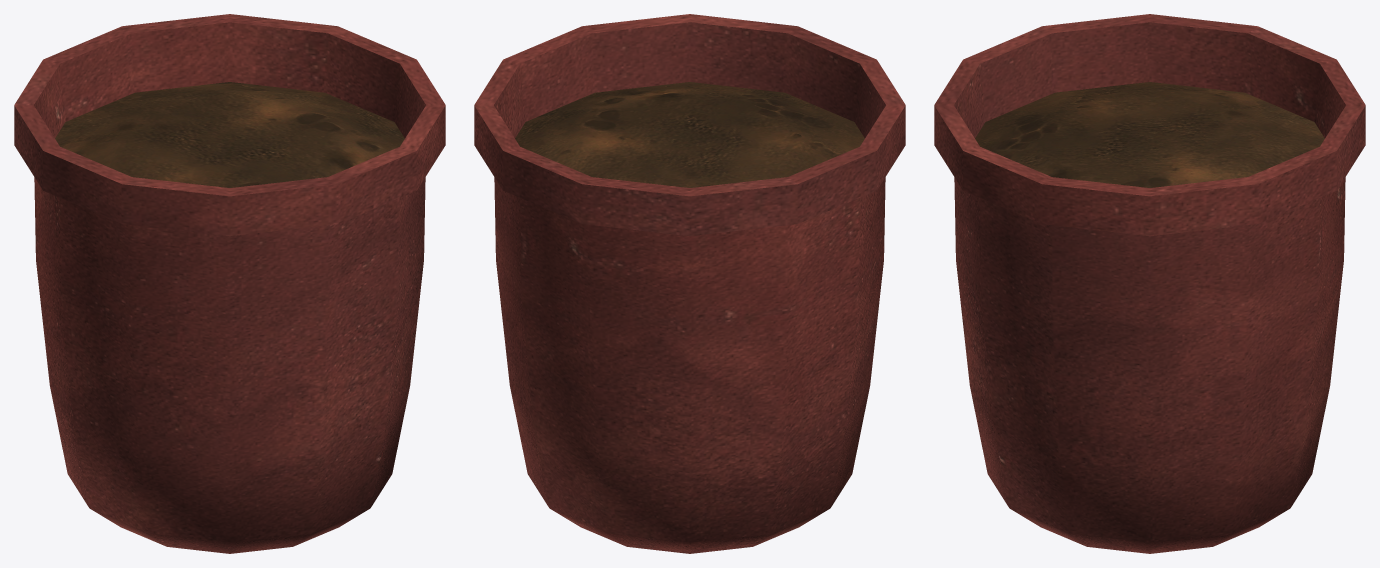
File: vase-01.fbx
3 renders of one model, left to right at view 1: azimuth 30°, elevation 25°; view 2: azimuth 150°, elevation 25°; view 3: azimuth 270°, elevation 25°, orthographic.
Parts seen in each view (by area): view 1: Cylinder.023; view 2: Cylinder.023; view 3: Cylinder.023.
Part boxes in pixels (box(x1,y1,x2,y2)): Cylinder.023: box(14, 14, 445, 553); Cylinder.023: box(474, 14, 905, 553); Cylinder.023: box(934, 14, 1365, 553).
Bounding box in the file's own units: 0.4752 × 0.4804 × 0.4752.
